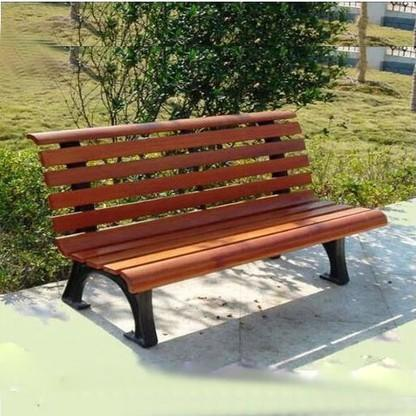obstacle: (15, 116, 397, 352)
